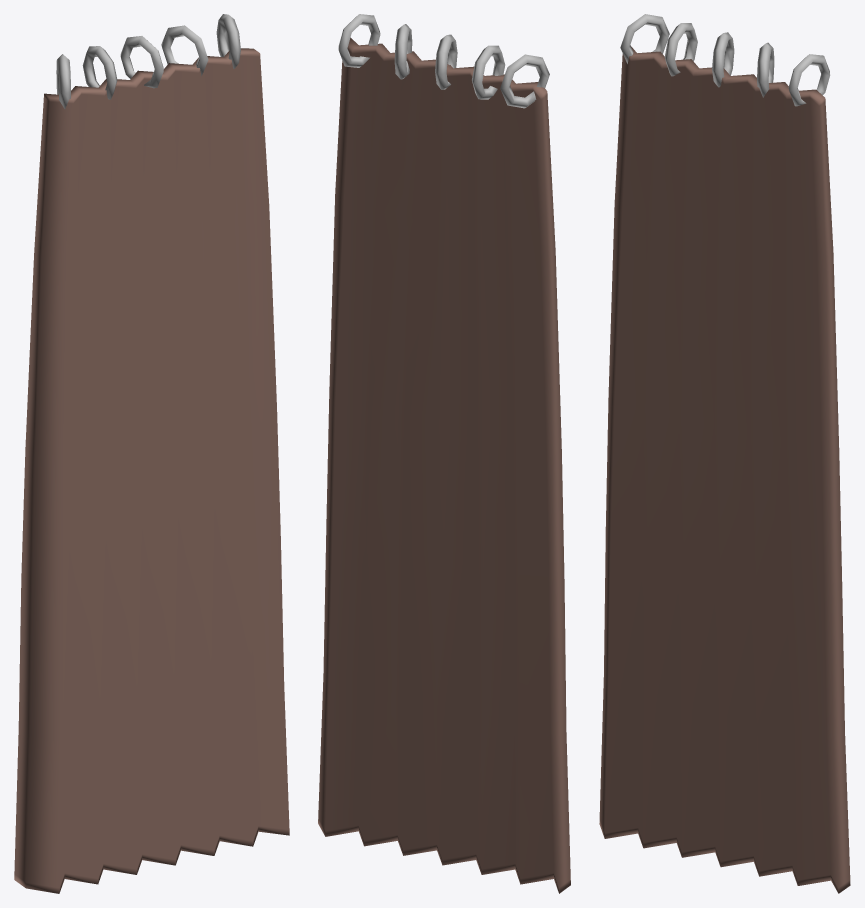
The model's file is curtain_002.fbx.
3 views of the same model, side by side, from view 1: azimuth 30°, elevation 25°; view 2: azimuth 150°, elevation 25°; view 3: azimuth 330°, elevation 25° (orthographic).
Visible parts, largest first — view 1: curtain_002; view 2: curtain_002; view 3: curtain_002.
Part boxes in pixels (box(x1,y1,x2,y2)): curtain_002: box(14, 14, 289, 893); curtain_002: box(318, 14, 570, 893); curtain_002: box(599, 14, 850, 893).
Bounding box in the file's own units: 112 × 25.27 × 348.
